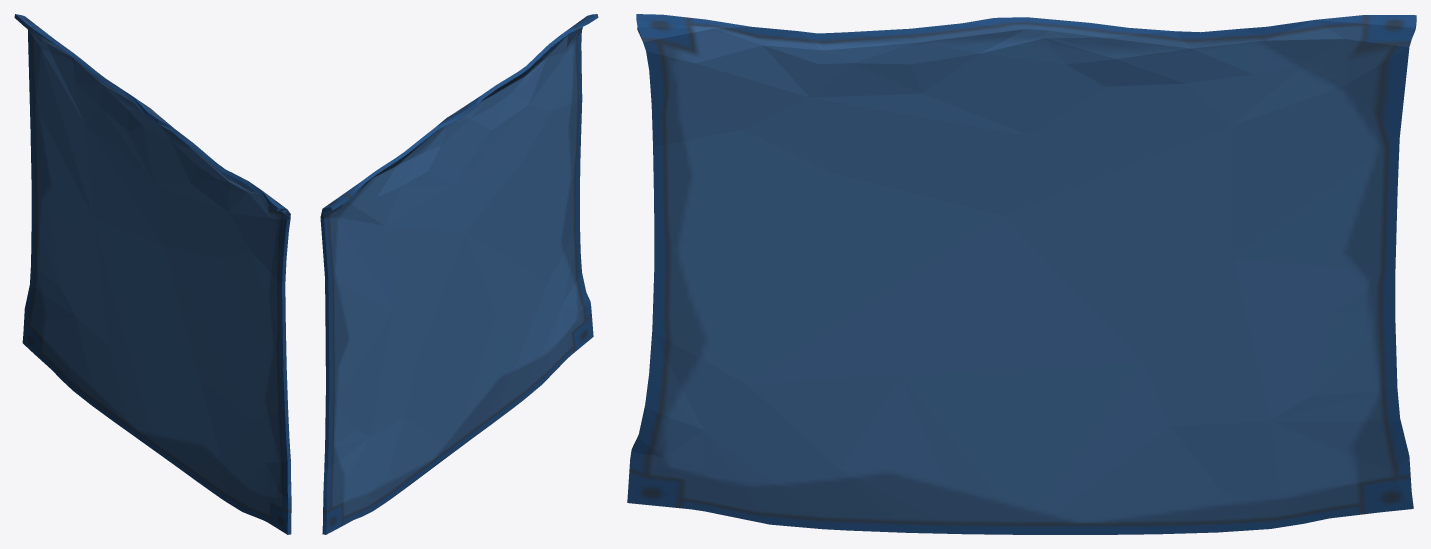
File: SM_Prop_Tarp_Generic_02.fbx
3 views of the same model, side by side, from view 1: azimuth 30°, elevation 25°; view 2: azimuth 150°, elevation 25°; view 3: azimuth 270°, elevation 25° (orthographic). The views are drawn at different scales.
Visible parts, largest first — view 1: SM_Prop_Tarp_Generic_02; view 2: SM_Prop_Tarp_Generic_02; view 3: SM_Prop_Tarp_Generic_02.
Boxes of the visible parts, x1,y1,x2,y2 form: SM_Prop_Tarp_Generic_02: [14, 14, 291, 534]; SM_Prop_Tarp_Generic_02: [320, 14, 598, 534]; SM_Prop_Tarp_Generic_02: [627, 14, 1416, 534].
Size of the model in its own units: 12.53 by 243 by 340.
